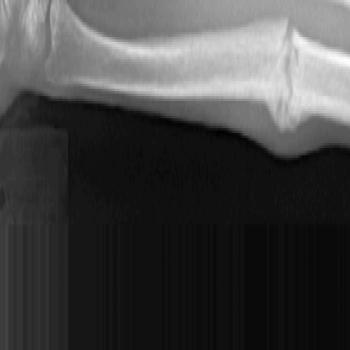Fracture: (275, 9, 307, 148)
